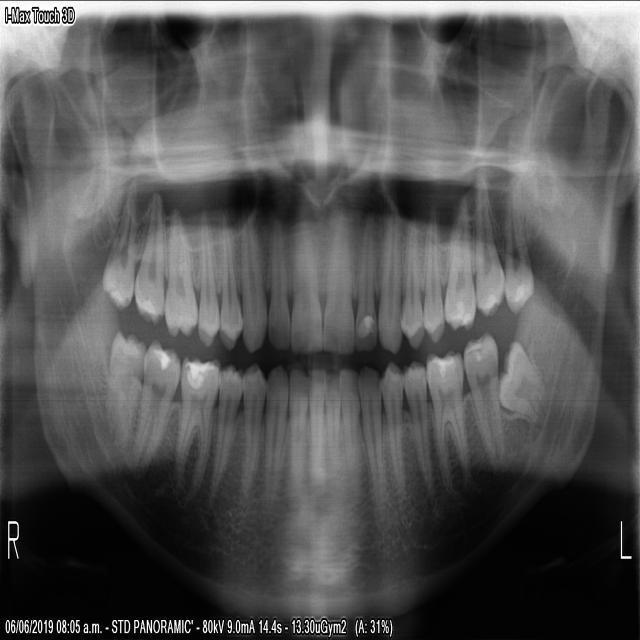LCD: (356, 355, 383, 516)
LCU: (375, 200, 403, 360)
LID: (338, 353, 364, 498), (320, 360, 341, 484)
LIU: (320, 203, 357, 355), (354, 209, 376, 349)
LMD: (423, 339, 473, 497), (460, 325, 510, 474), (496, 328, 551, 433)
LMU: (441, 189, 476, 338), (473, 169, 505, 323), (502, 181, 536, 324)
LPMD: (399, 353, 437, 511), (378, 351, 404, 502)
LPMU: (395, 209, 426, 353), (420, 204, 446, 350)
RCD: (260, 360, 289, 507)
RCU: (236, 202, 268, 356)
RID: (286, 356, 308, 501), (303, 357, 327, 488)
RIU: (287, 206, 323, 359), (265, 215, 289, 353)
RMD: (124, 330, 181, 483), (168, 349, 221, 506), (102, 321, 148, 462)
RMU: (97, 174, 139, 320), (160, 190, 199, 341), (129, 172, 165, 330)
RPMD: (205, 358, 244, 509), (236, 356, 267, 507)
RPMU: (193, 205, 222, 355), (216, 211, 244, 359)
